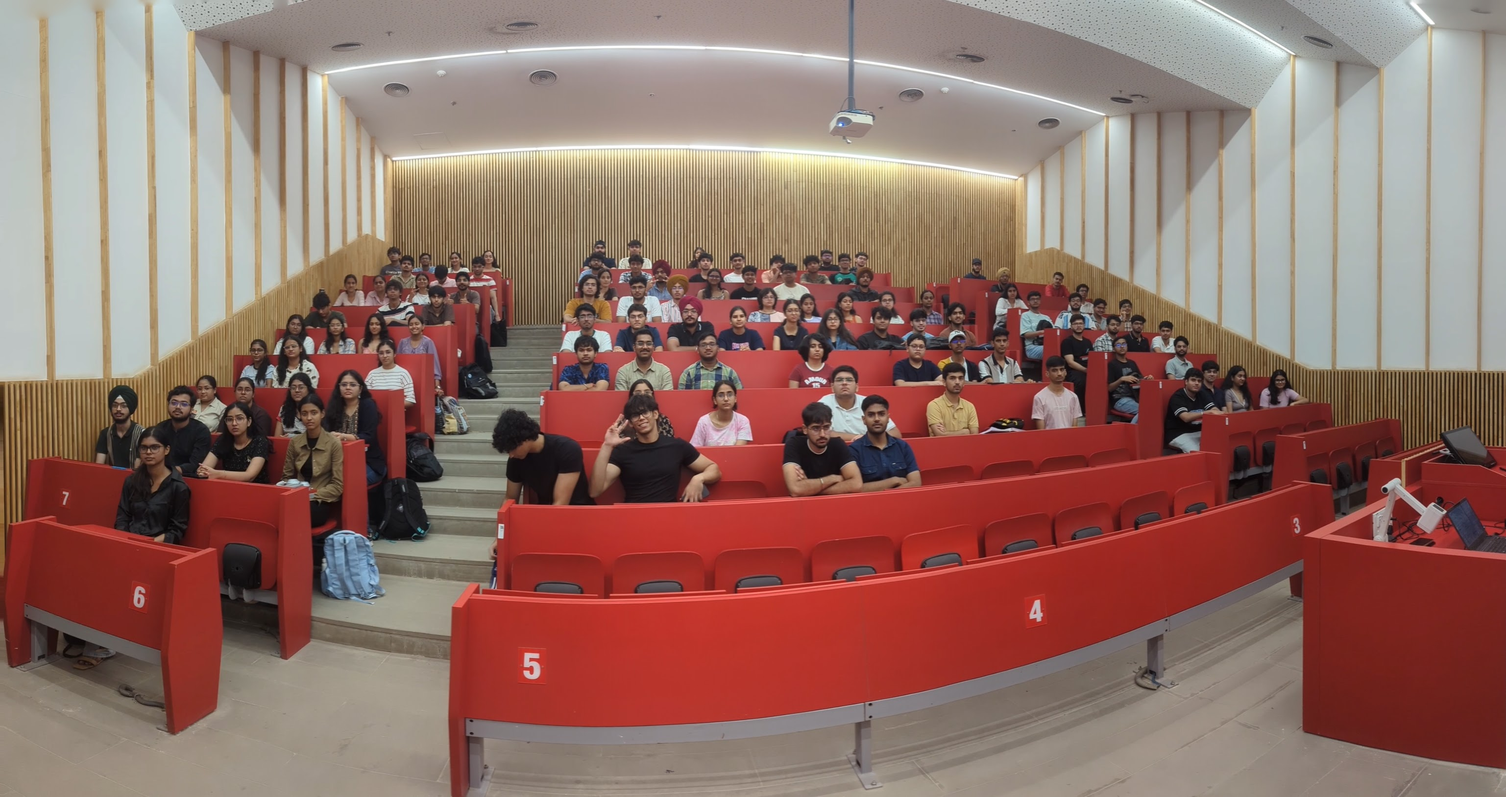student_face: (497, 424, 524, 450), (628, 406, 652, 430), (137, 436, 161, 460), (865, 407, 888, 430), (110, 394, 133, 416), (223, 405, 246, 427), (167, 394, 189, 416), (288, 402, 310, 424), (808, 410, 830, 432), (710, 388, 731, 409), (834, 374, 855, 395), (308, 295, 328, 316), (666, 281, 687, 300), (630, 335, 650, 354), (696, 340, 716, 359), (338, 377, 358, 396), (943, 371, 962, 391), (1045, 367, 1065, 386), (575, 340, 594, 359), (805, 340, 824, 359), (193, 379, 212, 398), (425, 291, 447, 306), (247, 340, 265, 358), (235, 380, 253, 398), (290, 375, 308, 393), (1177, 372, 1195, 390), (284, 315, 307, 329), (625, 237, 643, 254), (283, 336, 301, 353), (376, 346, 394, 363), (907, 336, 925, 353), (943, 336, 961, 353), (988, 336, 1006, 353), (756, 292, 776, 307), (766, 253, 782, 271), (401, 312, 418, 328), (576, 304, 593, 320), (628, 307, 645, 323), (681, 304, 698, 320), (785, 307, 802, 323), (826, 309, 843, 325), (865, 309, 882, 325), (907, 309, 924, 325), (949, 309, 966, 325), (1202, 373, 1219, 389), (1226, 373, 1243, 389), (432, 266, 451, 280), (626, 257, 646, 270), (416, 249, 432, 265), (327, 317, 343, 333), (366, 317, 382, 333), (730, 309, 746, 325), (1113, 336, 1129, 352), (738, 267, 755, 282), (343, 276, 357, 294), (783, 262, 797, 280), (805, 252, 819, 270), (456, 276, 472, 291), (656, 262, 670, 279), (387, 283, 401, 299), (588, 238, 604, 252), (801, 293, 815, 309), (921, 292, 937, 306), (1067, 310, 1083, 324), (369, 276, 386, 289), (413, 274, 430, 287), (1023, 294, 1040, 307), (582, 260, 606, 269), (446, 253, 461, 267), (577, 278, 592, 292), (629, 278, 644, 292), (822, 251, 836, 266), (1170, 337, 1185, 351), (1270, 374, 1285, 388), (727, 253, 743, 266), (381, 248, 398, 260), (1157, 320, 1169, 337), (399, 259, 414, 272), (1052, 272, 1065, 287), (470, 257, 481, 274), (841, 295, 854, 309), (1069, 294, 1083, 307), (1130, 319, 1144, 332), (706, 276, 722, 287), (860, 271, 871, 287), (1005, 289, 1021, 300), (856, 256, 869, 269), (997, 271, 1011, 283), (1106, 319, 1118, 333), (484, 248, 494, 264), (599, 274, 615, 284), (692, 248, 705, 260), (1095, 303, 1104, 320), (839, 254, 849, 269), (881, 294, 893, 306), (971, 260, 983, 272), (1121, 303, 1133, 314), (699, 259, 710, 270), (1082, 280, 1089, 295)
